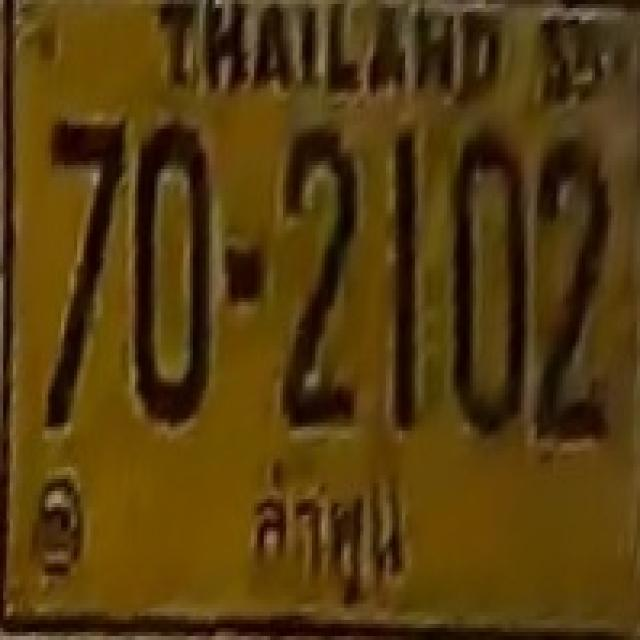0: (447, 128, 524, 430), (132, 122, 209, 420)
1: (389, 129, 416, 436)
2: (280, 127, 362, 433), (534, 139, 612, 454)
7: (38, 119, 125, 432)
LPN: (243, 474, 421, 613)
